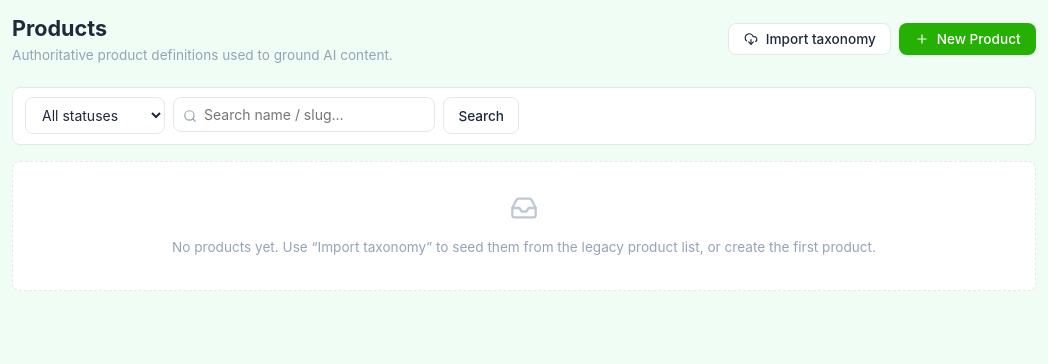
Test: ProductListPage › surfaces an import failure instead of failing silently
Click the button "Import taxonomy" at (810, 39), box [728,23,891,56]
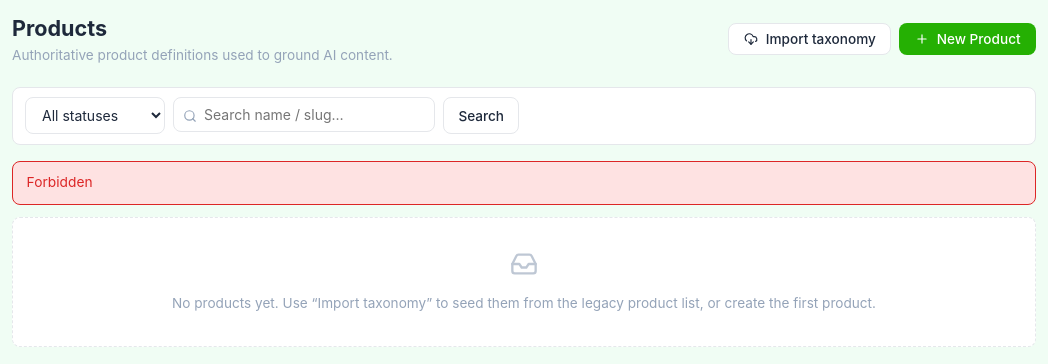
Expected: the text "Forbidden" is shown, [12,161,1036,205]
